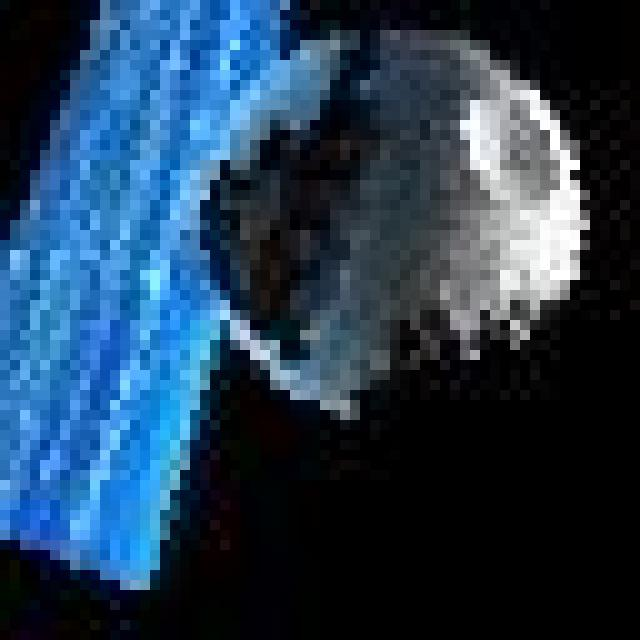Death Star: (181, 23, 594, 426)
